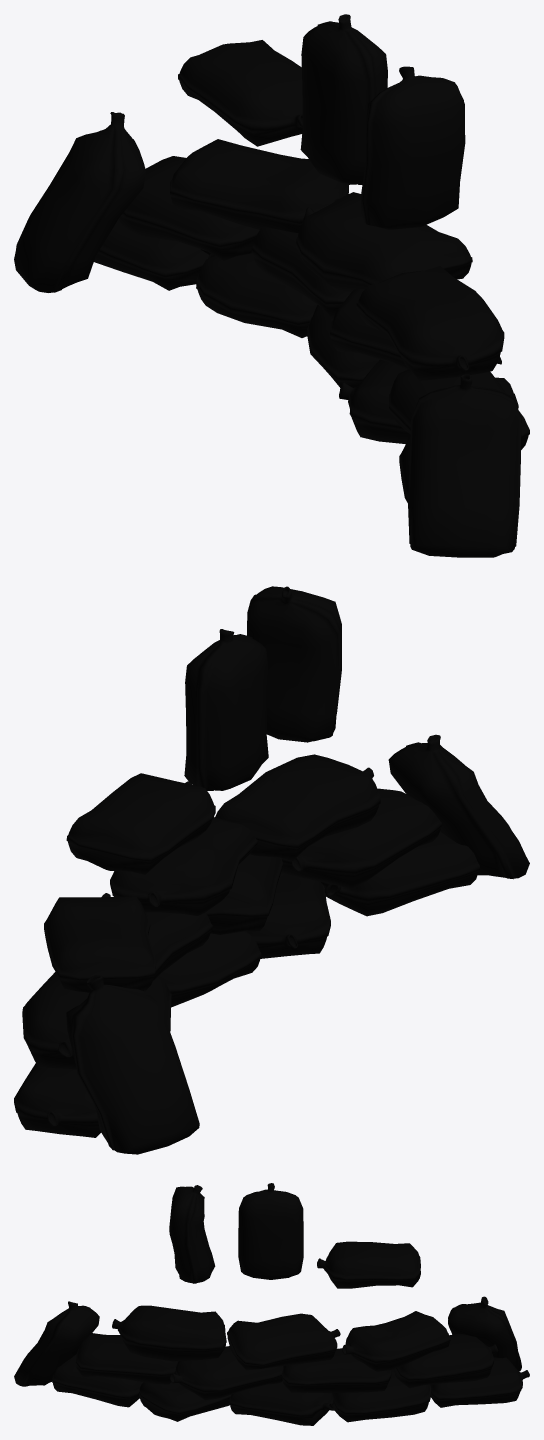
The model's file is SandBagWall.fbx.
3 renders of one model, top to bottom at view 1: azimuth 30°, elevation 25°; view 2: azimuth 150°, elevation 25°; view 3: azimuth 270°, elevation 25°, orthographic. The views are drawn at different scales.
Visible parts, largest first — view 1: SandWall, SandBagStand, SandBag, SandBagLay; view 2: SandWall, SandBagStand, SandBag, SandBagLay; view 3: SandWall, SandBag, SandBagLay, SandBagStand.
Part boxes in pixels (x1,y1,x2,y2): SandWall: (14,112,529,557); SandBagStand: (360,66,465,229); SandBag: (300,14,387,184); SandBagLay: (178,40,302,146); SandWall: (14,734,529,1154); SandBagStand: (247,586,341,742); SandBag: (184,629,268,790); SandBagLay: (66,773,215,874); SandWall: (14,1296,529,1425); SandBag: (238,1183,303,1279); SandBagLay: (317,1241,420,1288); SandBagStand: (169,1185,215,1283).
Size of the model in its own units: 0.4277 by 0.1402 by 0.1995.
